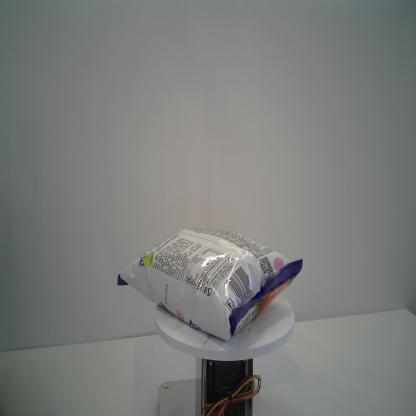Puffed Food: (117, 227, 303, 341)
